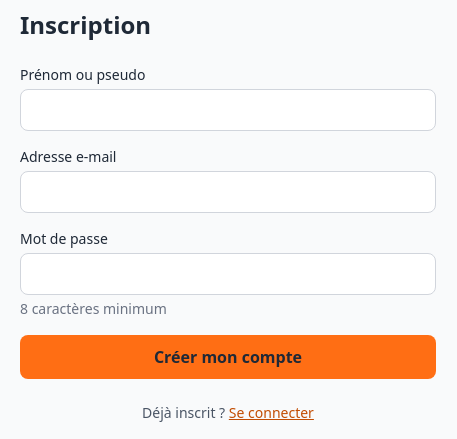
Scenario: page d'inscription › refuse un mot de passe de moins de 8 caractères sans appeler le serveur
Type "Marie" into the field labelled "Prénom ou pseudo". click: (228, 110)
box: left=20, top=89, right=436, bottom=131
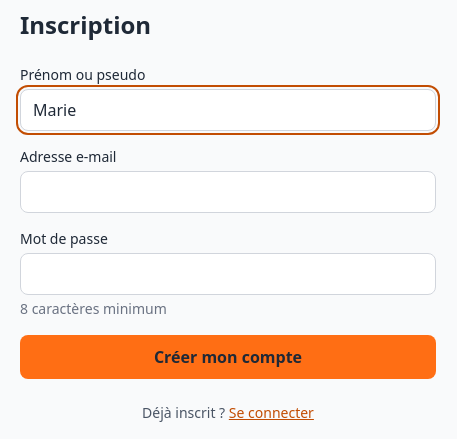
Type "marie@test.fr" into the field labelled "Adresse e-mail". click: (228, 192)
box: left=20, top=171, right=436, bottom=213
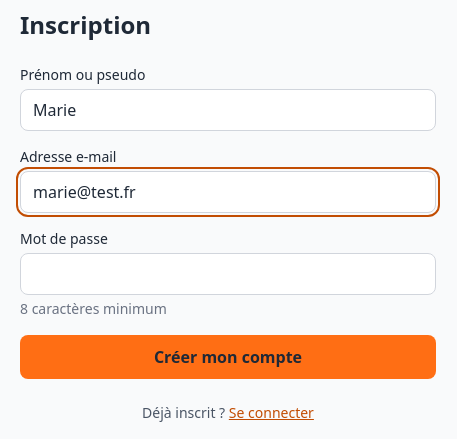
Type "court" into the password field labelled "Mot de passe". click: (228, 274)
box: left=20, top=253, right=436, bottom=295
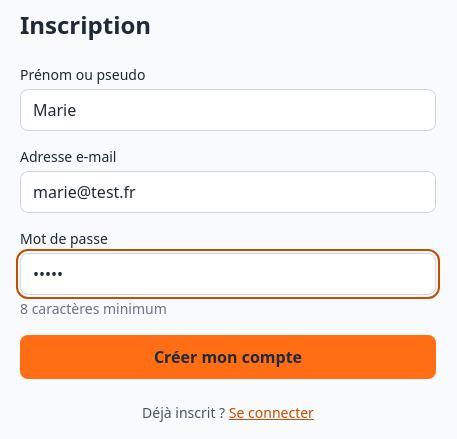
Click the button "Créer mon compte". click: click(228, 357)
box: left=20, top=335, right=436, bottom=379
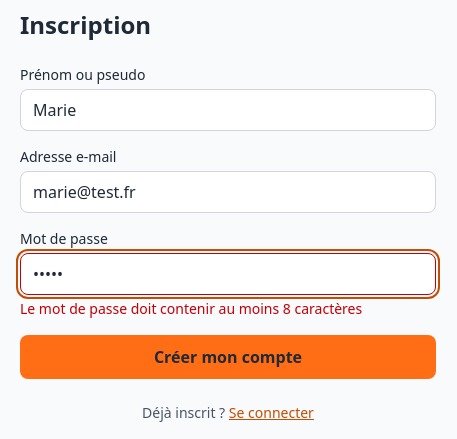
Result: the text "Le mot de passe doit contenir au moins 8 caractères" is shown at left=20, top=299, right=362, bottom=318
